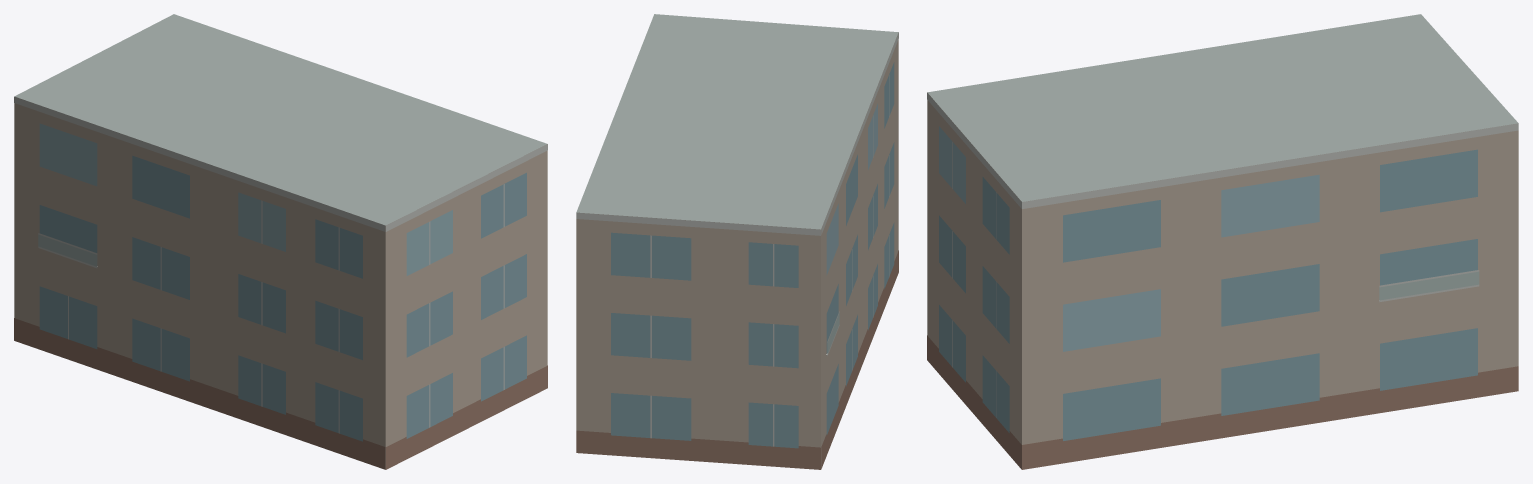
Rendered from survey-upis-32698467.glb.
The picture shows the model from 3 angles, left to right: view 1: azimuth 30°, elevation 25°; view 2: azimuth 150°, elevation 25°; view 3: azimuth 270°, elevation 25°; orthographic projection. The views are drawn at different scales.
Parts seen in each view (by area): view 1: survey-upis-32698467.tmp; view 2: survey-upis-32698467.tmp; view 3: survey-upis-32698467.tmp.
Part boxes in pixels (x1,y1,x2,y2): survey-upis-32698467.tmp: (14, 14, 547, 469); survey-upis-32698467.tmp: (576, 14, 898, 469); survey-upis-32698467.tmp: (927, 14, 1518, 469).
Bounding box in the file's own units: 13.79 × 9.15 × 18.33.
